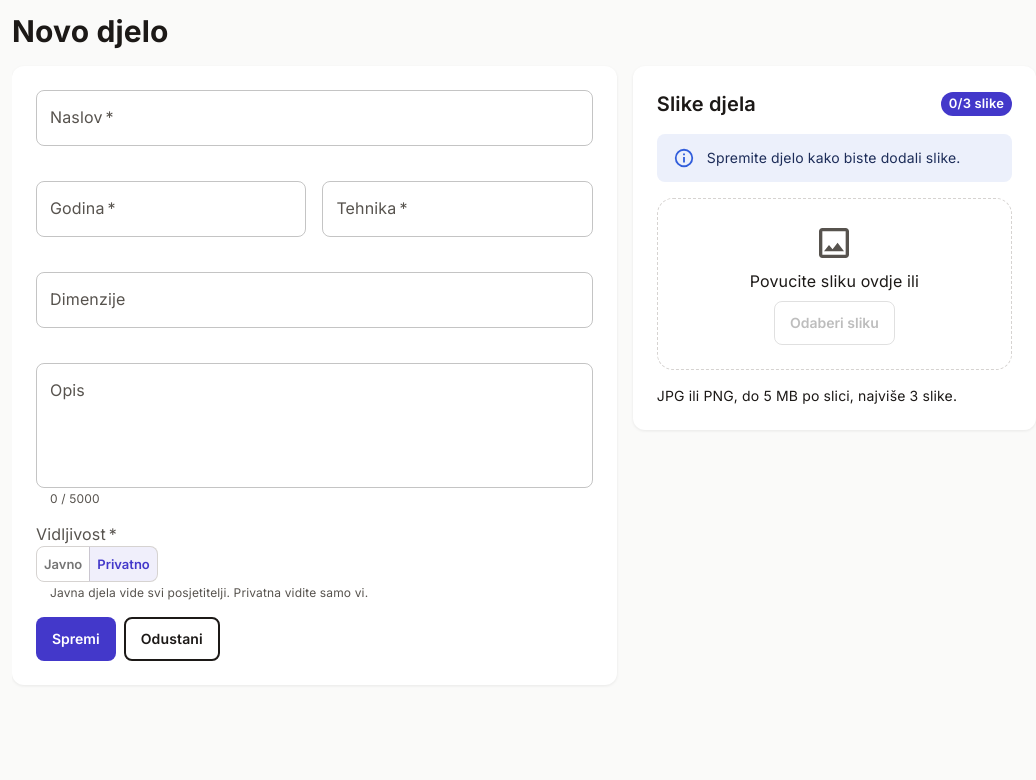
Test case: ArtworkFormPage › saves the selected visibility and opens the saved artwork for image uploads
Step 1. Type "Plavi horizont" into the field labelled "Naslov" → [314, 118], box [36,90,593,146]
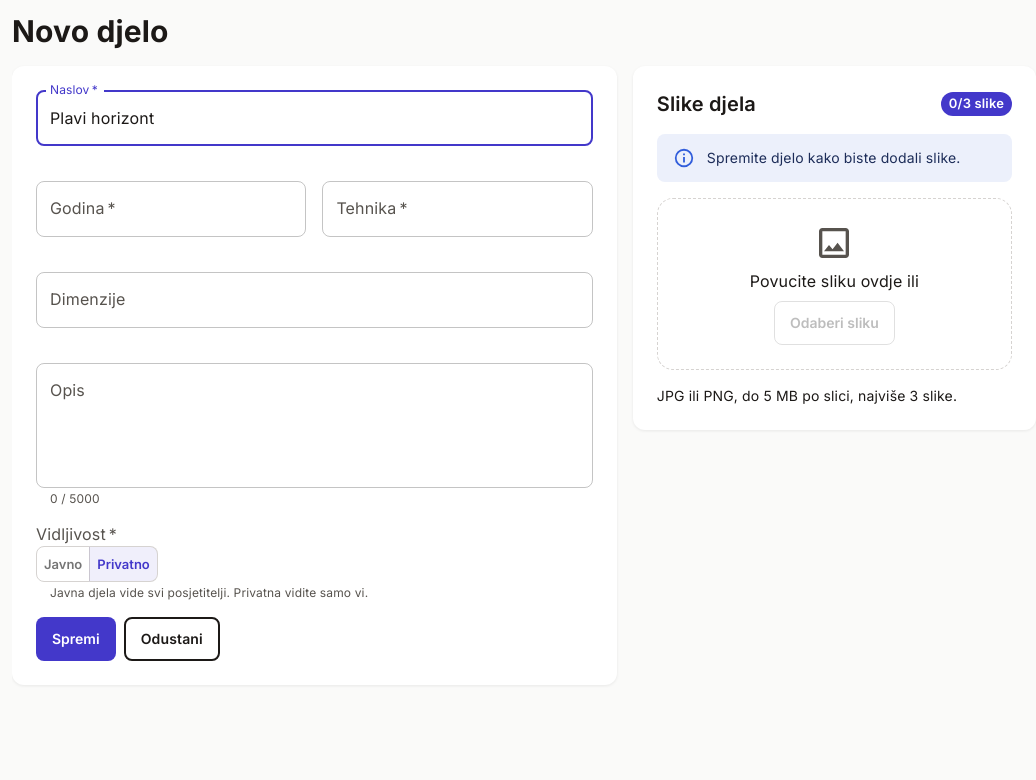
Step 2. Type "2025" into the number field labelled "Godina" → [171, 209], box [36,181,306,237]
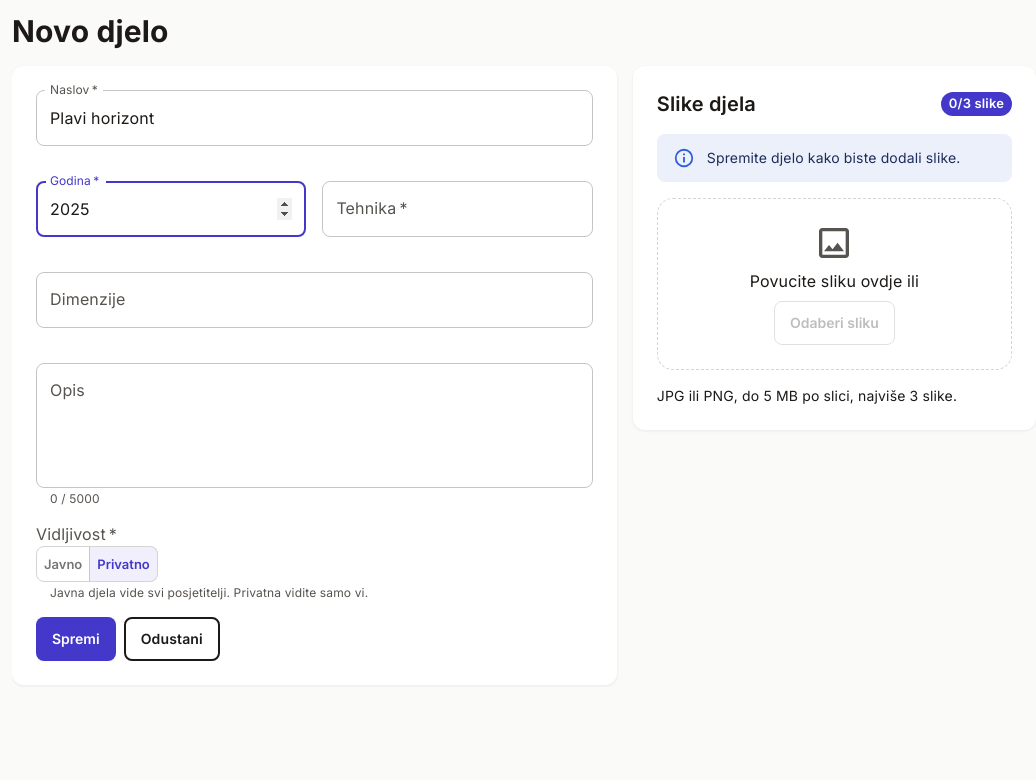
Step 3. Type "Ulje na platnu" into the field labelled "Tehnika" → [458, 209], box [322,181,593,237]
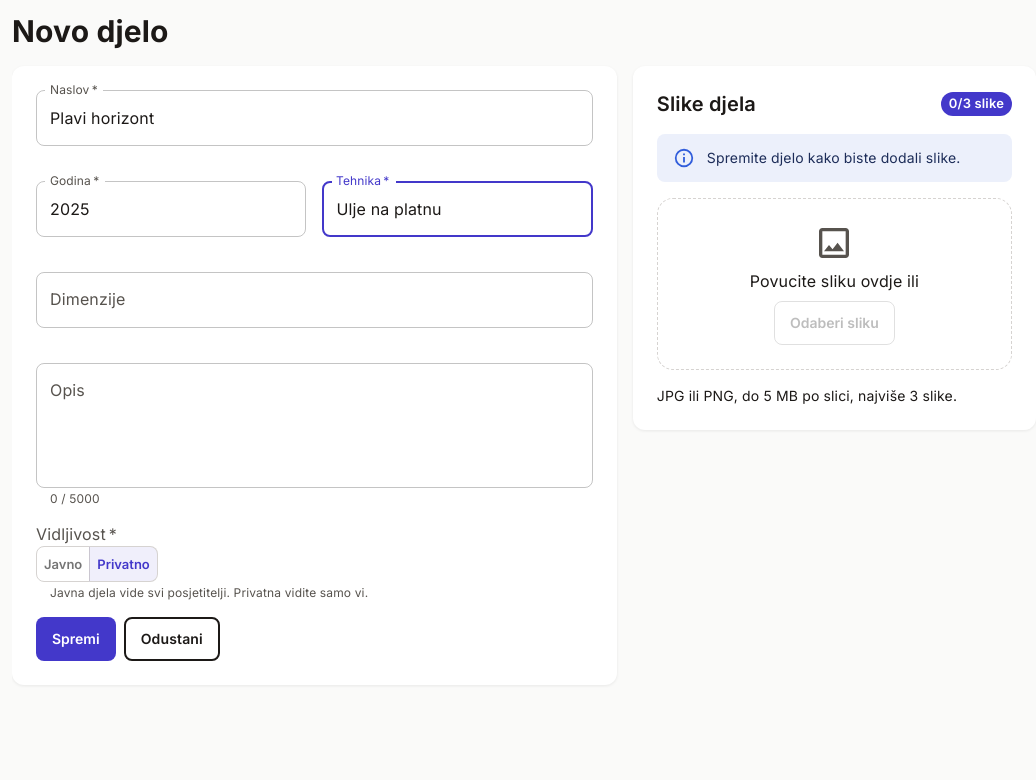
Step 4. Click the button "Javno" → [63, 564], box [36,546,90,582]
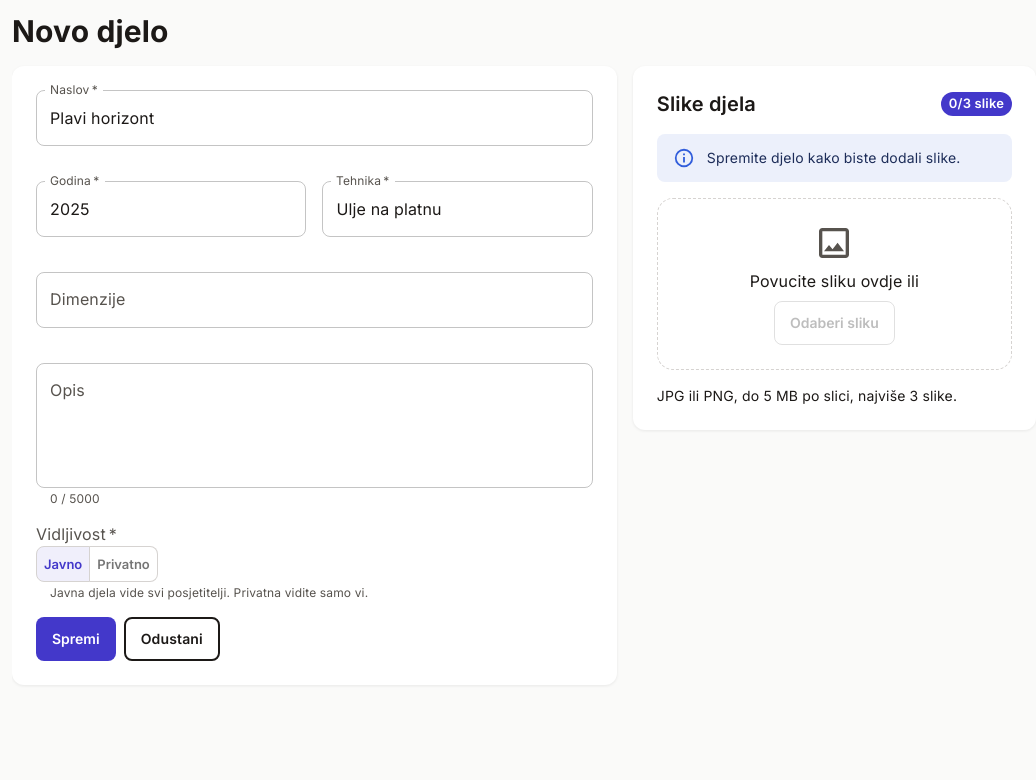
Step 5. Click the button "Spremi" → [76, 639], box [36,617,116,661]
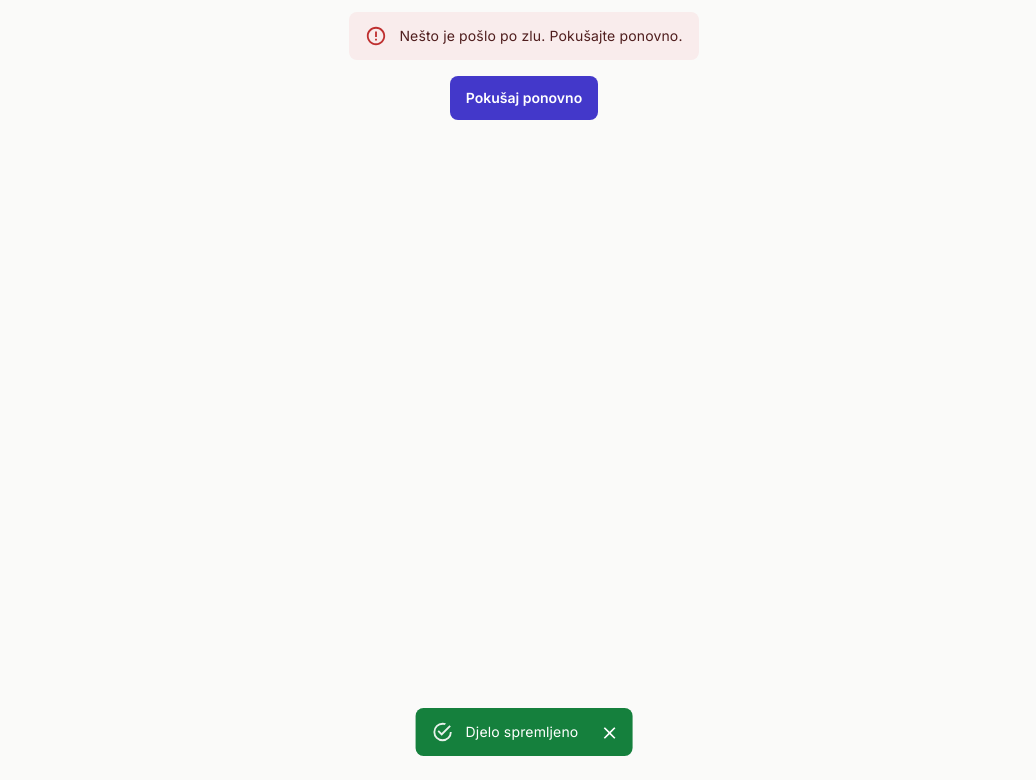
Result: the text "Djelo spremljeno" is shown at [466,723,578,740]
